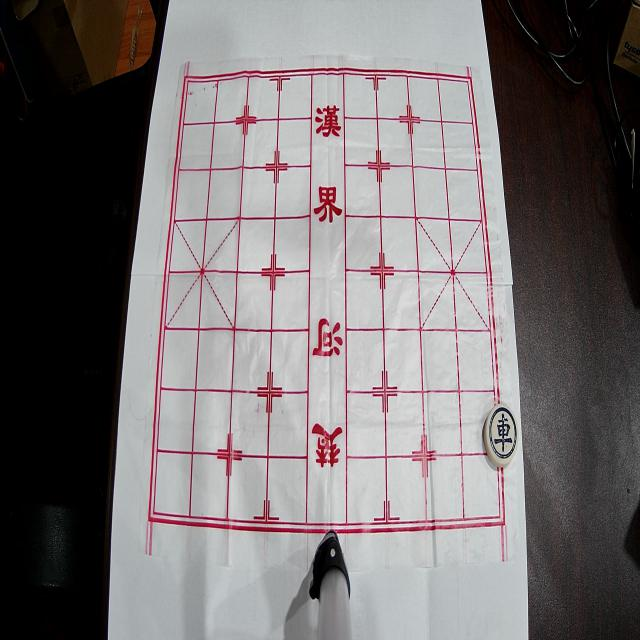black-chariot: (484, 404, 518, 467)
